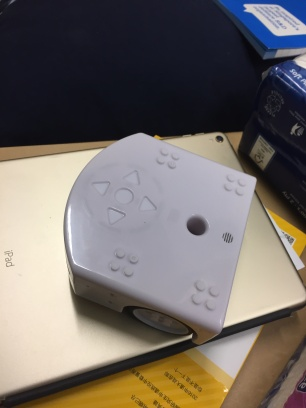thymio: (57, 121, 273, 360)
